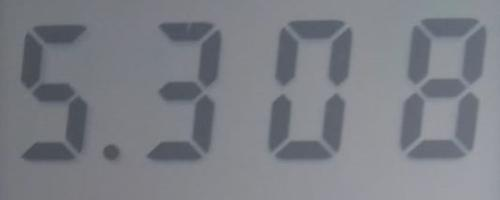.: (100, 137, 123, 167)
